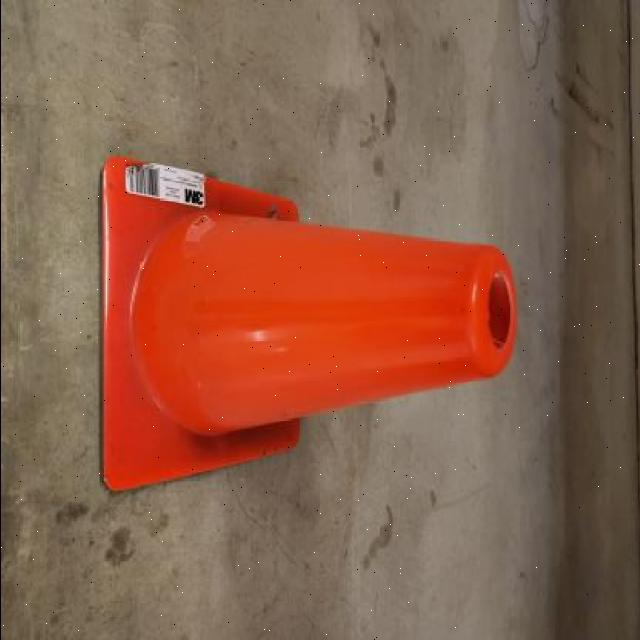traffic cone: (84, 128, 534, 508)
